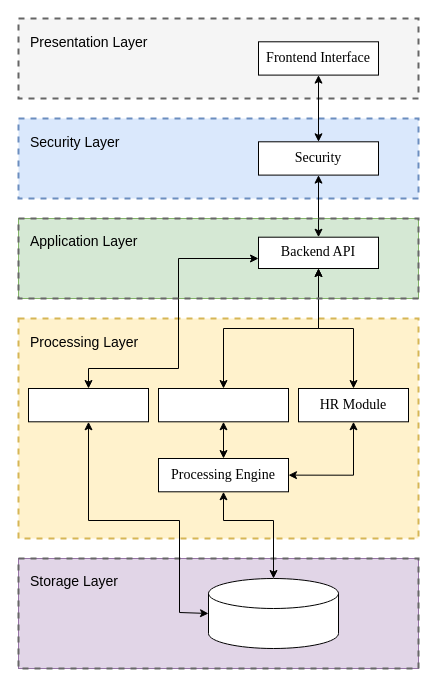
Some shapes in this 436 by 686 pixel diagram are drawn without their labels. The shapes that lost their labels are listed below. From the top down, each one's centre as x and y in pixels, then its label:
(x=88, y=405): AI/NLP Module
(x=223, y=405): Document Ingestion
(x=273, y=613): Vector Database
